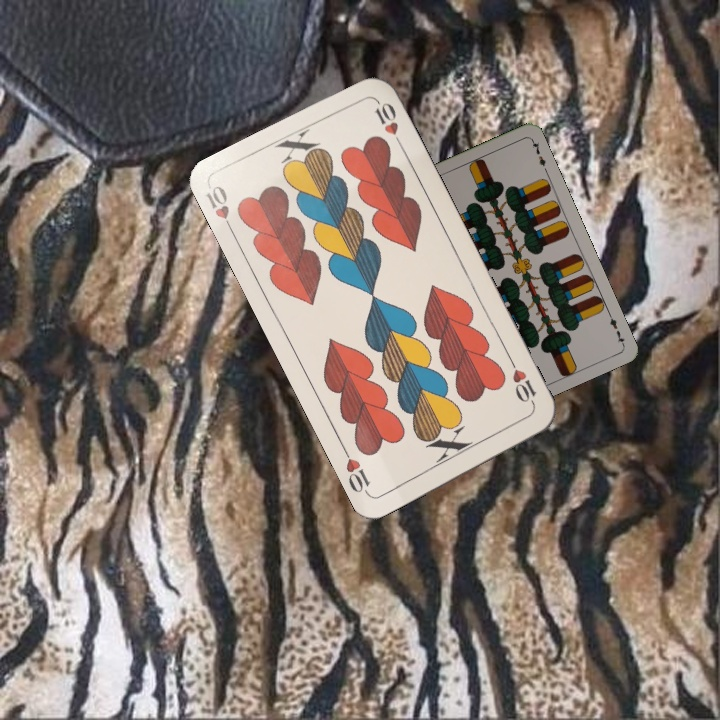E7: (604, 309, 627, 347)
H10: (201, 181, 238, 238), (505, 355, 539, 411)
